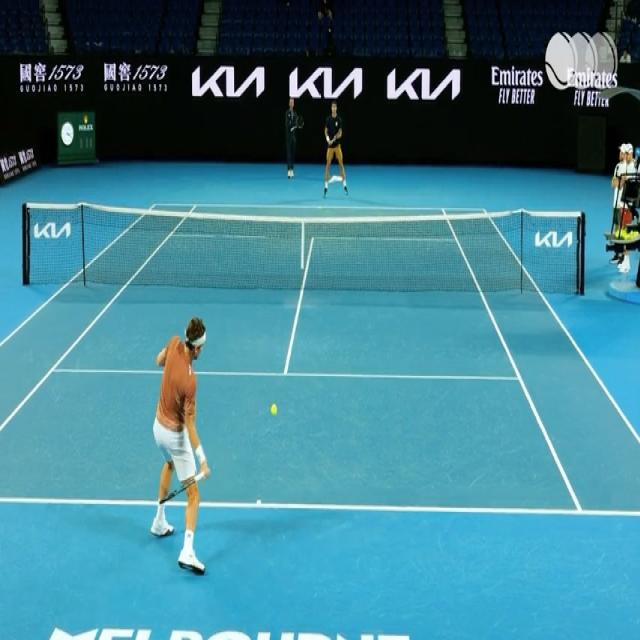forehand-stroke: (152, 322, 216, 574)
